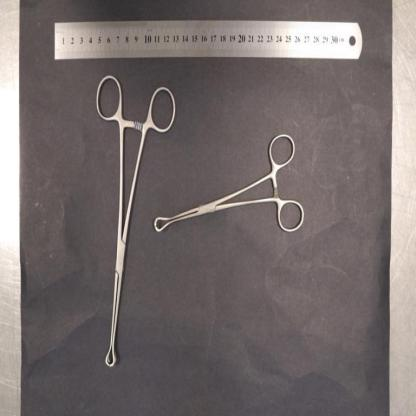8 Babcock Tissue Forceps: (96, 73, 176, 369)
Babcock Tissue Forceps: (154, 133, 304, 236)
